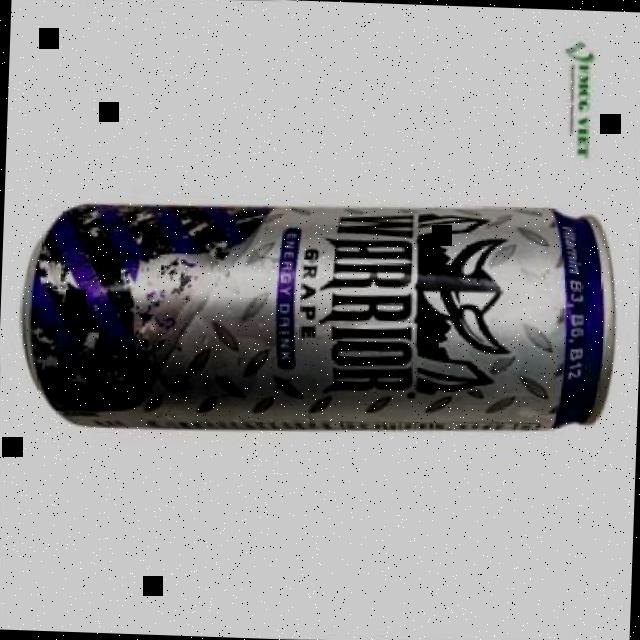can: (7, 180, 635, 452)
